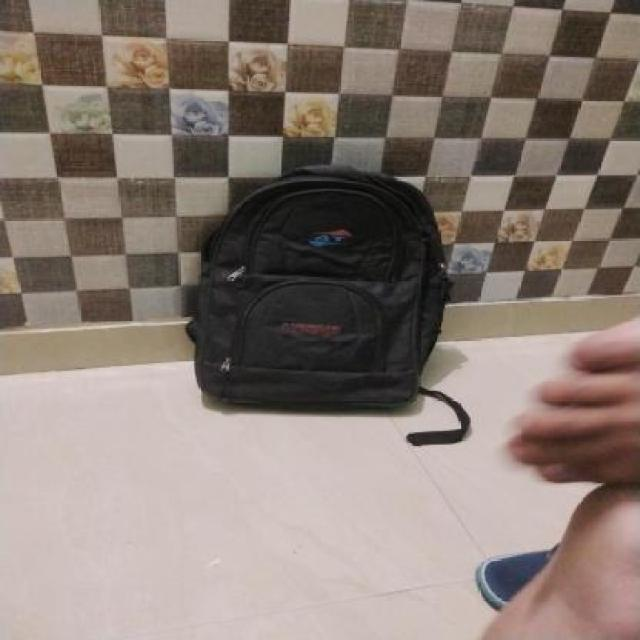backpack: (183, 160, 457, 414)
